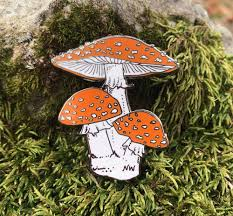Amanita muscaria: (49, 33, 182, 180), (50, 83, 122, 159), (112, 105, 169, 167)
